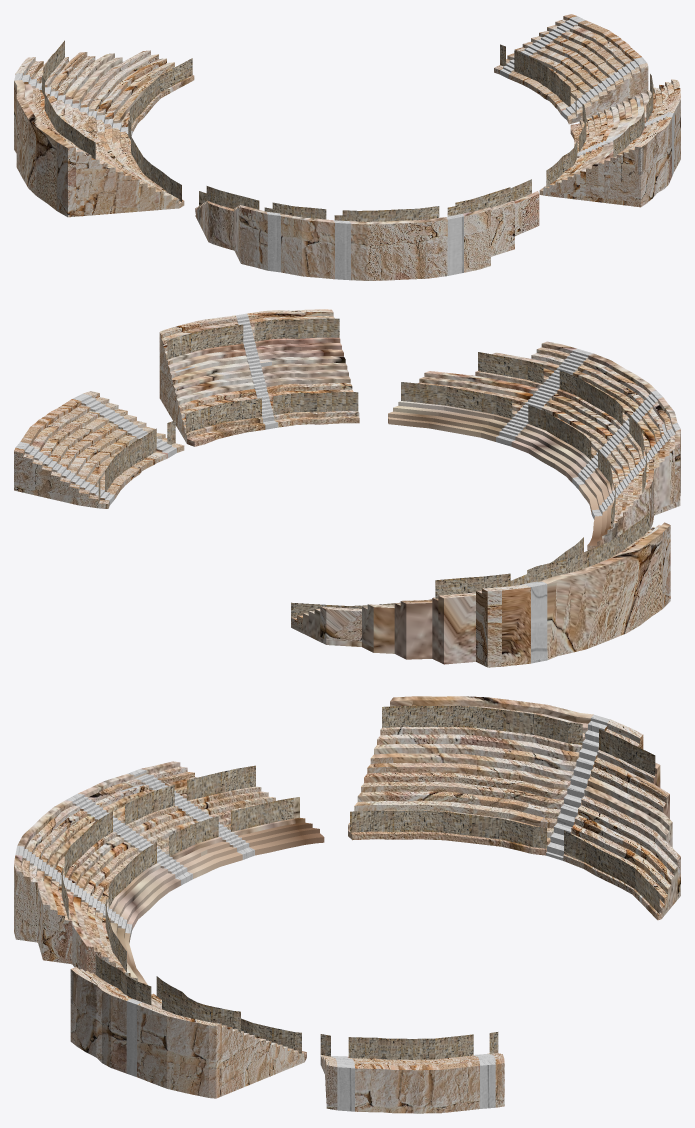
The model's file is Tribunes.glb.
3 views of the same model, one above another, from view 1: azimuth 30°, elevation 25°; view 2: azimuth 150°, elevation 25°; view 3: azimuth 270°, elevation 25° (orthographic). The views are drawn at different scales.
Parts seen in each view (by area): view 1: Cube; view 2: Cube; view 3: Cube.
Boxes of the visible parts, x1,y1,x2,y2 form: Cube: [14, 14, 680, 280]; Cube: [14, 309, 680, 667]; Cube: [14, 696, 680, 1113].
Size of the model in its own units: 5.3 by 0.6518 by 4.48.
Materials: 3 (3 with a texture image).
